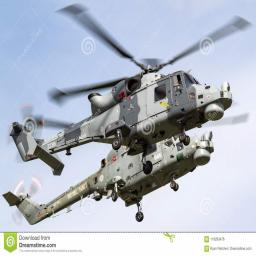helicopter: (12, 4, 248, 176), (17, 139, 218, 232)
